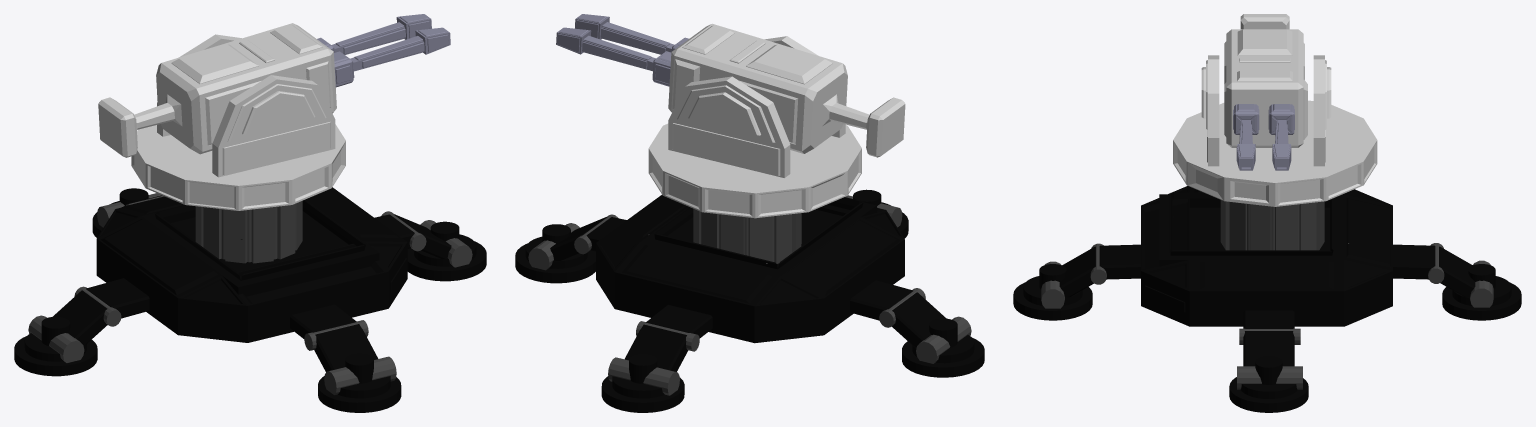
File: TaretLevel2.fbx
3 views of the same model, side by side, from view 1: azimuth 30°, elevation 25°; view 2: azimuth 150°, elevation 25°; view 3: azimuth 270°, elevation 25° (orthographic). The views are drawn at different scales.
Visible parts, largest first — view 1: gövde, Cube.002, Cube.001, gövde.003, namlu, leg3.006, leg3.003, leg3.008, leg3.005, leg3.002, leg3.007, leg3.004 (+4 smaller); view 2: gövde, Cube.002, Cube.001, gövde.003, namlu, leg3.009, leg3.003, leg3.011, leg3.005, leg3.002, leg3.010, leg3.004 (+3 smaller); view 3: gövde, Cube.002, Cube.001, gövde.003, namlu, leg3.002, leg3, leg3.009, leg3.006, leg3.011, leg3.008, leg3.001 (+2 smaller).
Boxes of the visible parts, x1,y1,x2,y2 form: gövde: (96,187,407,342); Cube.002: (131,34,345,210); Cube.001: (98,23,336,157); gövde.003: (149,200,302,263); namlu: (317,14,450,87); leg3.006: (290,304,378,371); leg3.003: (52,278,149,345); leg3.008: (318,353,401,412); leg3.005: (14,316,97,376); leg3.002: (407,221,486,281); leg3.007: (304,320,396,395); leg3.004: (28,286,121,362); gövde: (596,195,904,343); Cube.002: (648,36,861,218); Cube.001: (668,23,905,157); gövde.003: (648,208,801,263); namlu: (556,14,688,86); leg3.009: (625,305,712,371); leg3.003: (850,280,946,348); leg3.011: (601,353,684,412); leg3.005: (902,318,984,377); leg3.002: (515,224,595,283); leg3.010: (608,321,699,395); leg3.004: (879,288,971,363); gövde: (1141,186,1392,326); Cube.002: (1173,55,1377,206); Cube.001: (1224,14,1307,147); gövde.003: (1220,200,1348,250); namlu: (1233,104,1294,170); leg3.002: (1229,356,1308,412); leg3: (1243,310,1294,366); leg3.009: (1393,244,1475,297); leg3.006: (1059,244,1140,297); leg3.011: (1442,264,1521,320); leg3.008: (1013,264,1092,320); leg3.001: (1237,328,1302,389).
Size of the model in its own units: 671 by 369 by 673.
